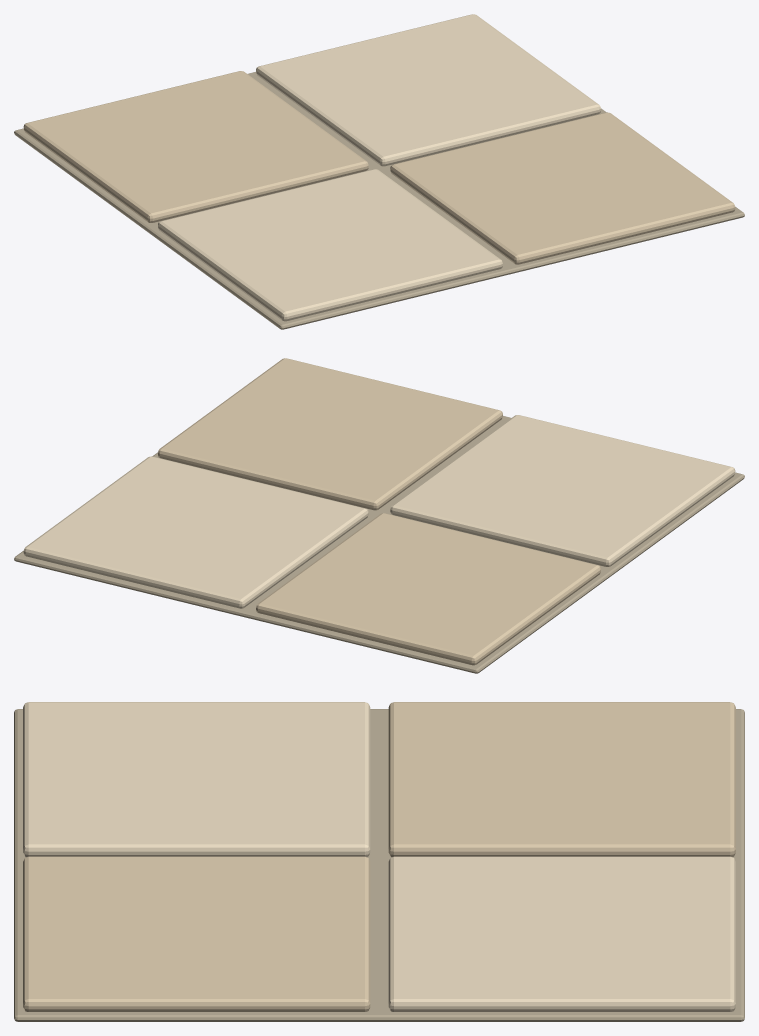
The picture shows the model from 3 angles, top to bottom: view 1: azimuth 30°, elevation 25°; view 2: azimuth 150°, elevation 25°; view 3: azimuth 270°, elevation 25°; orthographic projection. The views are drawn at different scales.
Parts seen in each view (by area): view 1: Deco floor_tile; view 2: Deco floor_tile; view 3: Deco floor_tile.
Boxes of the visible parts, x1=… form: Deco floor_tile: x1=14, y1=14, x2=744, y2=329; Deco floor_tile: x1=14, y1=358, x2=744, y2=673; Deco floor_tile: x1=14, y1=702, x2=744, y2=1021.
Bounding box in the file's own units: 2 × 0.055 × 2.
